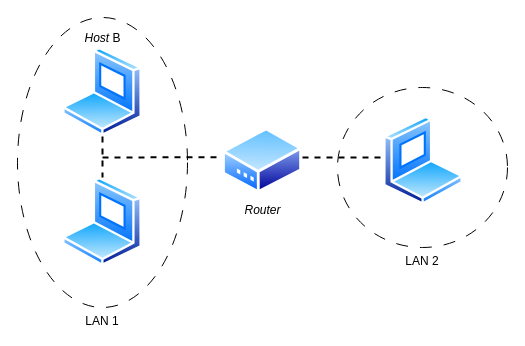
The diagram is 525 pixels wide and 346 high, and some of its shapes have lost their labels. Each missing label, with the centre of its shape:
"Host A" goes at point (102, 221).
"Host C" goes at point (422, 160).
